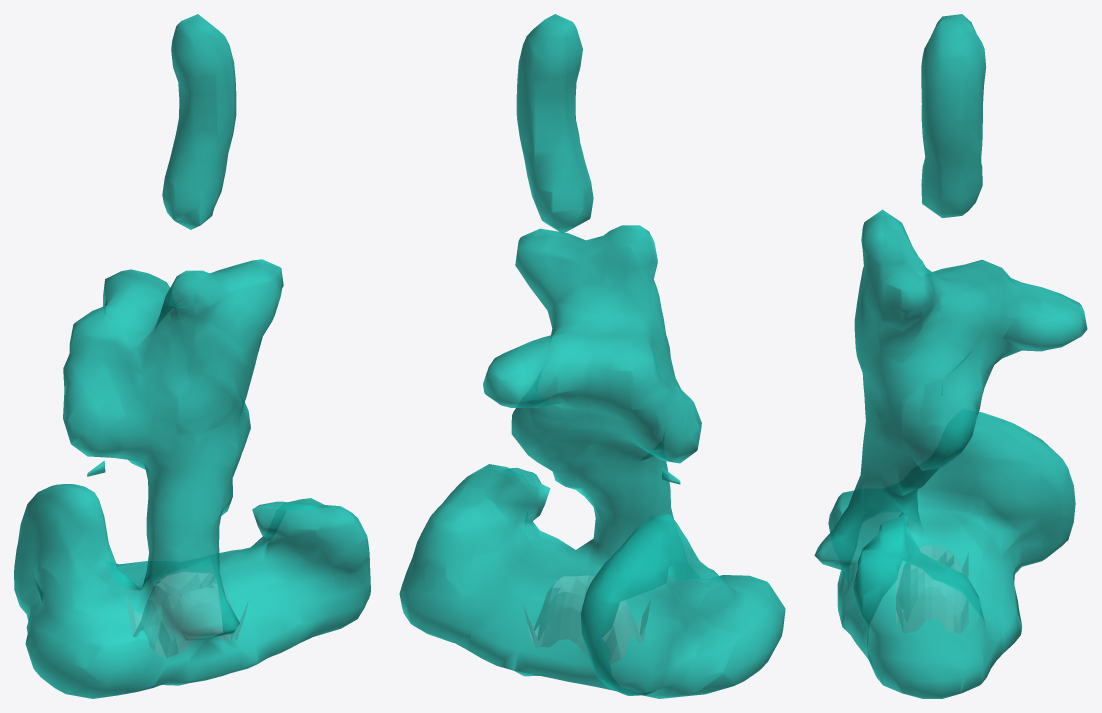
3 renders of one model, left to right at view 1: azimuth 30°, elevation 25°; view 2: azimuth 150°, elevation 25°; view 3: azimuth 270°, elevation 25°, orthographic. The views are drawn at different scales.
Parts seen in each view (by area): view 1: Liquid_Domain, グリッド; view 2: Liquid_Domain, グリッド; view 3: Liquid_Domain, グリッド.
Part boxes in pixels (bbox=[...]): Liquid_Domain: bbox=[14, 14, 370, 698]; グリッド: bbox=[126, 572, 247, 657]; Liquid_Domain: bbox=[399, 14, 785, 698]; グリッド: bbox=[524, 575, 650, 663]; Liquid_Domain: bbox=[814, 14, 1087, 698]; グリッド: bbox=[896, 546, 968, 632].
Size of the model in its own units: 1.59 by 2.85 by 1.13.
